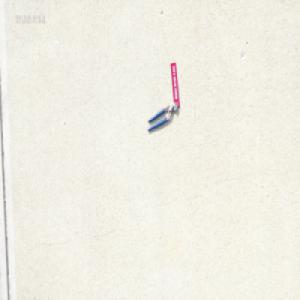Label: (169, 61, 180, 107)
Pliers: (146, 101, 177, 132)
